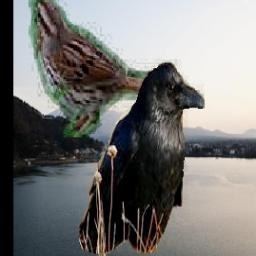Crow: (79, 59, 205, 256)
Sparrow: (30, 0, 185, 138)
